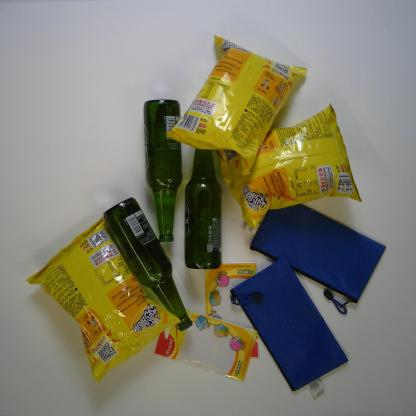Alcohol: (103, 196, 193, 333), (142, 98, 184, 244), (183, 148, 223, 271)
Puffed Food: (24, 216, 183, 385), (165, 33, 308, 178), (213, 101, 362, 232)
Stationery: (229, 256, 350, 402), (242, 203, 387, 316), (154, 309, 259, 384), (204, 261, 260, 360)
